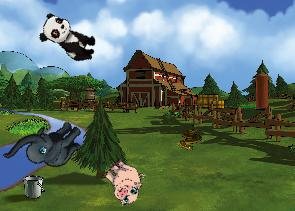elephant: (2, 101, 89, 190)
panda: (35, 10, 102, 66)
pig: (95, 153, 151, 209)
